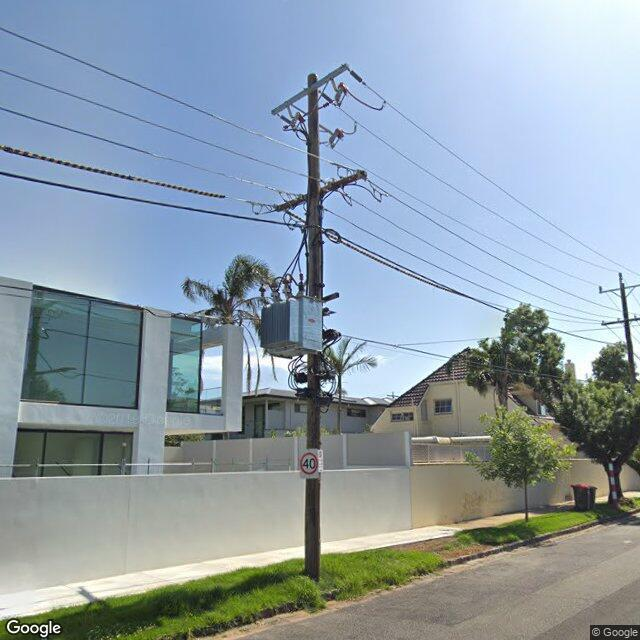HV-transmission: (272, 64, 386, 149), (597, 272, 640, 294)
crossarm: (252, 162, 392, 216), (272, 63, 350, 115), (599, 284, 640, 293), (601, 317, 640, 326), (322, 291, 340, 303)
timber-pole: (304, 73, 322, 582), (620, 283, 636, 382)
transformer: (259, 273, 323, 359)
